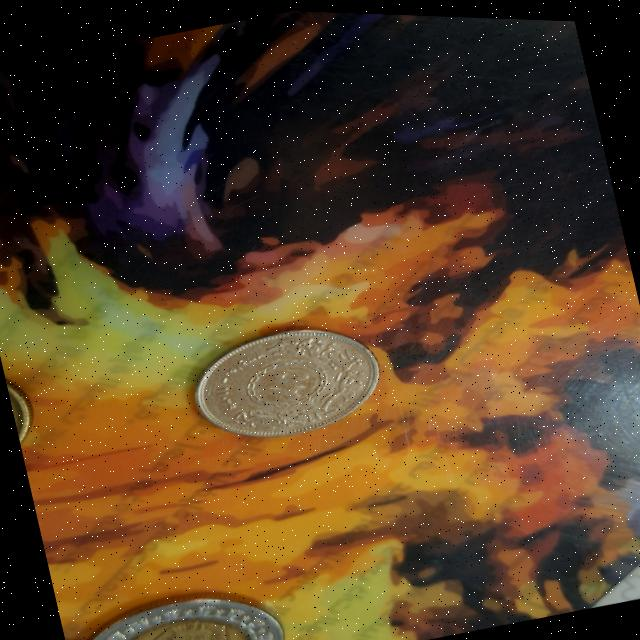Half Pound: (0, 339, 53, 467)
One Pound: (60, 567, 295, 640)
quarter pound: (175, 297, 396, 458)
